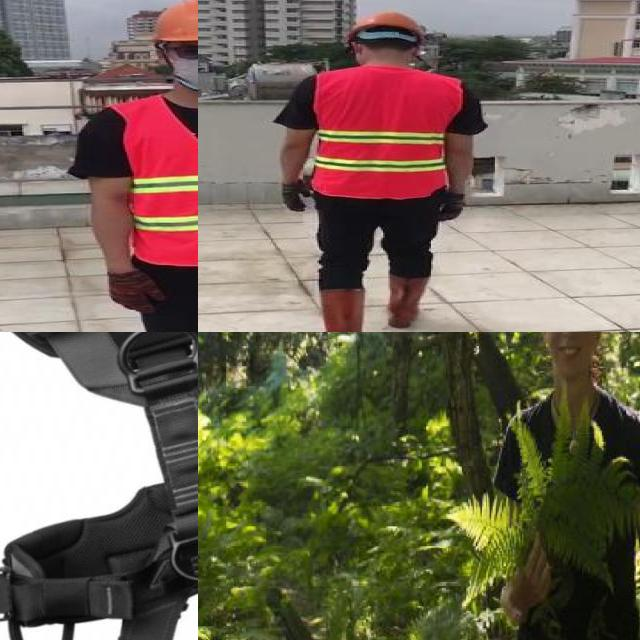Harness: (0, 332, 198, 640)
boots: (385, 274, 431, 327), (317, 289, 367, 332)
face_mask: (166, 39, 198, 84)
face_nomask: (544, 332, 596, 363)
glasses: (491, 332, 640, 640), (165, 37, 198, 63)
hand_glove: (108, 270, 162, 312), (280, 180, 312, 213), (438, 194, 463, 222)
hand_noglove: (504, 530, 557, 610)
head_helmet: (141, 0, 198, 45), (346, 10, 431, 38)
person: (271, 7, 481, 332), (70, 0, 198, 332)
vest: (312, 70, 456, 198), (120, 94, 198, 266)
